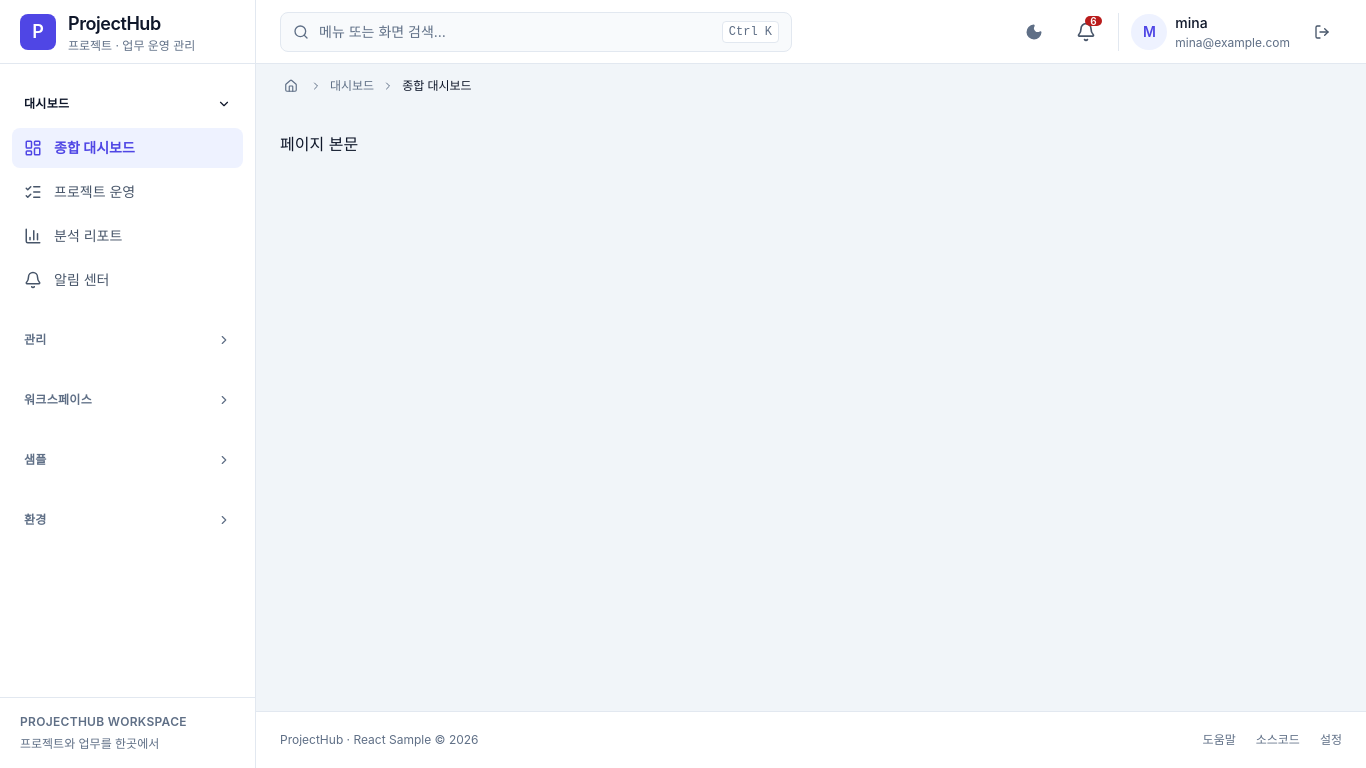
Test: authenticated application shell › 검색 빈 결과와 Escape 종료, 검색창 포커스 복원을 제공한다
This screenshot has width=1366, height=768.
Step 1. Click the button with aria-label "메뉴 및 화면 검색 열기" → click(382, 31), box left=280, top=12, right=792, bottom=52
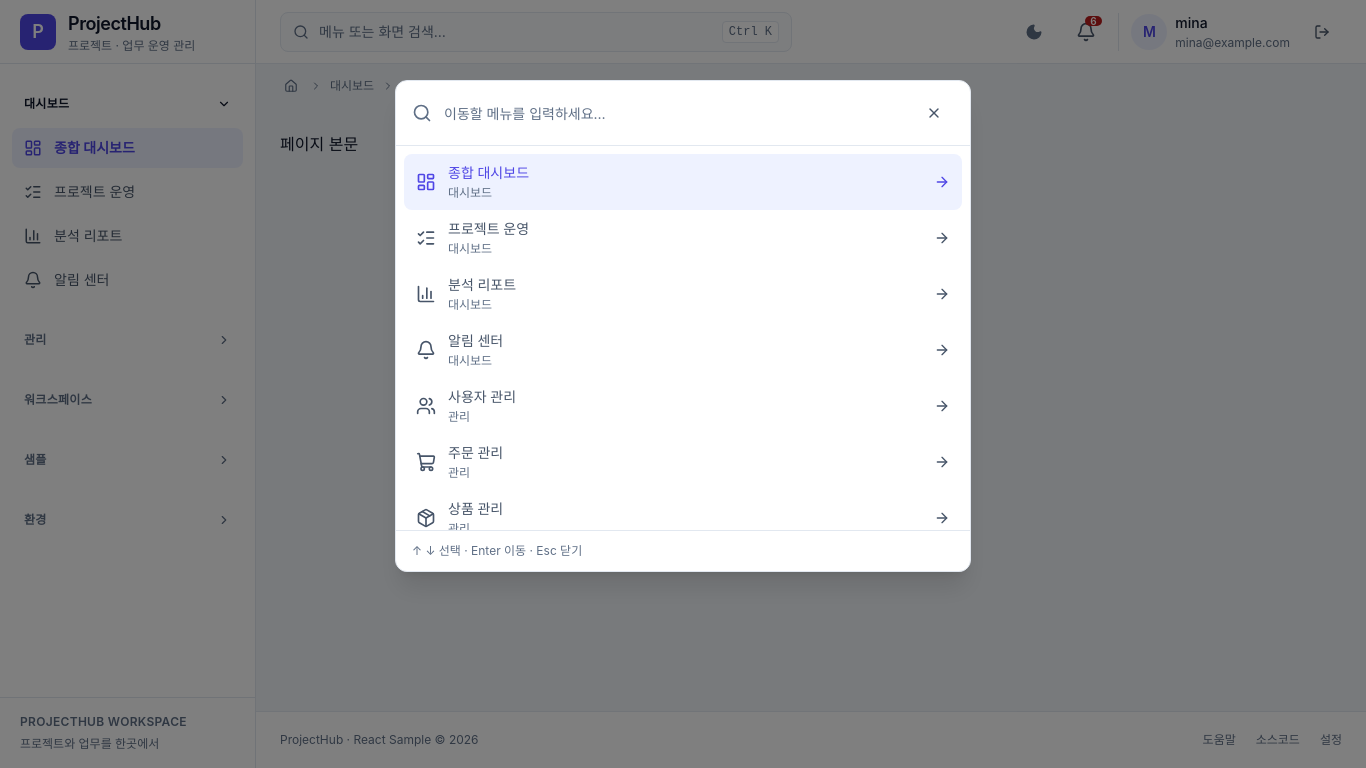
Step 2. Type "없는메뉴" into the dropdown → (673, 113), box left=444, top=93, right=902, bottom=133
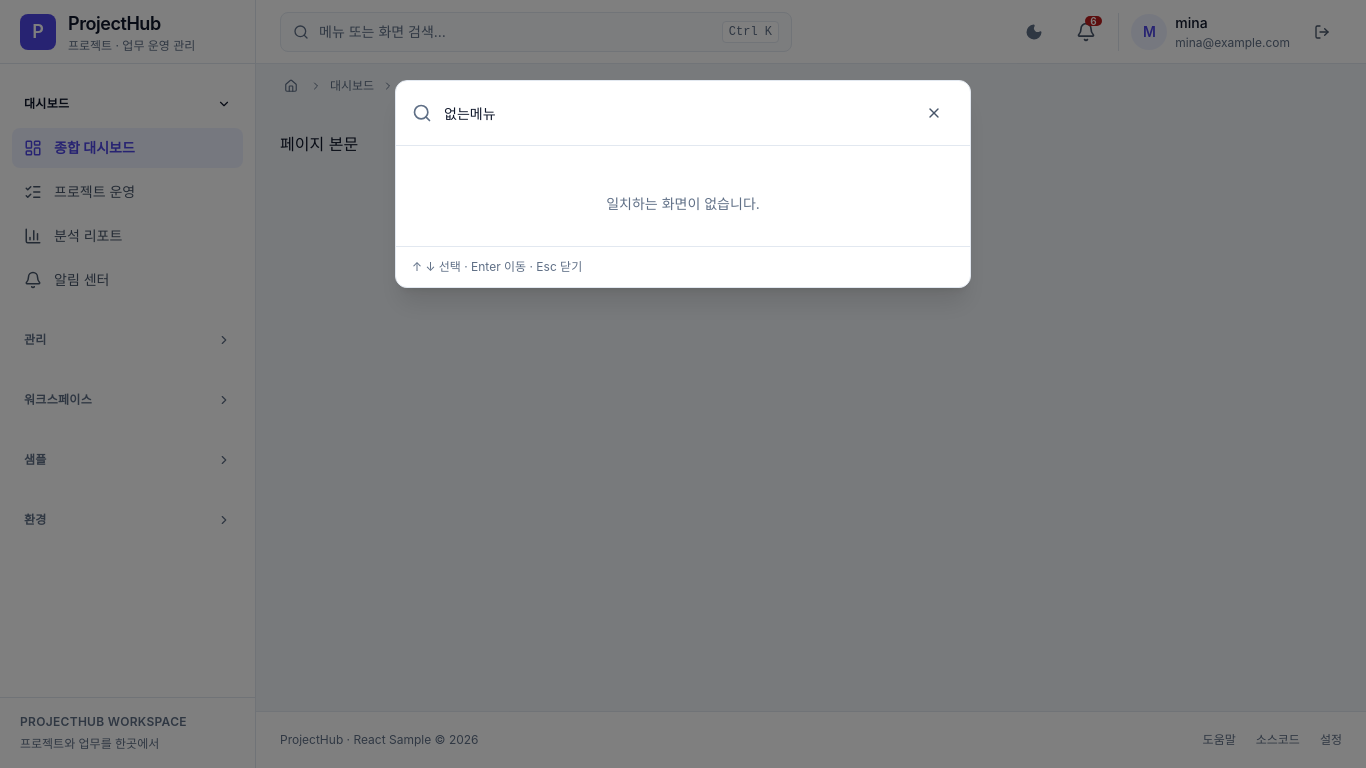
Check: the message reads "일치하는 화면이 없습니다.", box left=606, top=195, right=760, bottom=212
Step 3. Press Arrowup Enter Escape
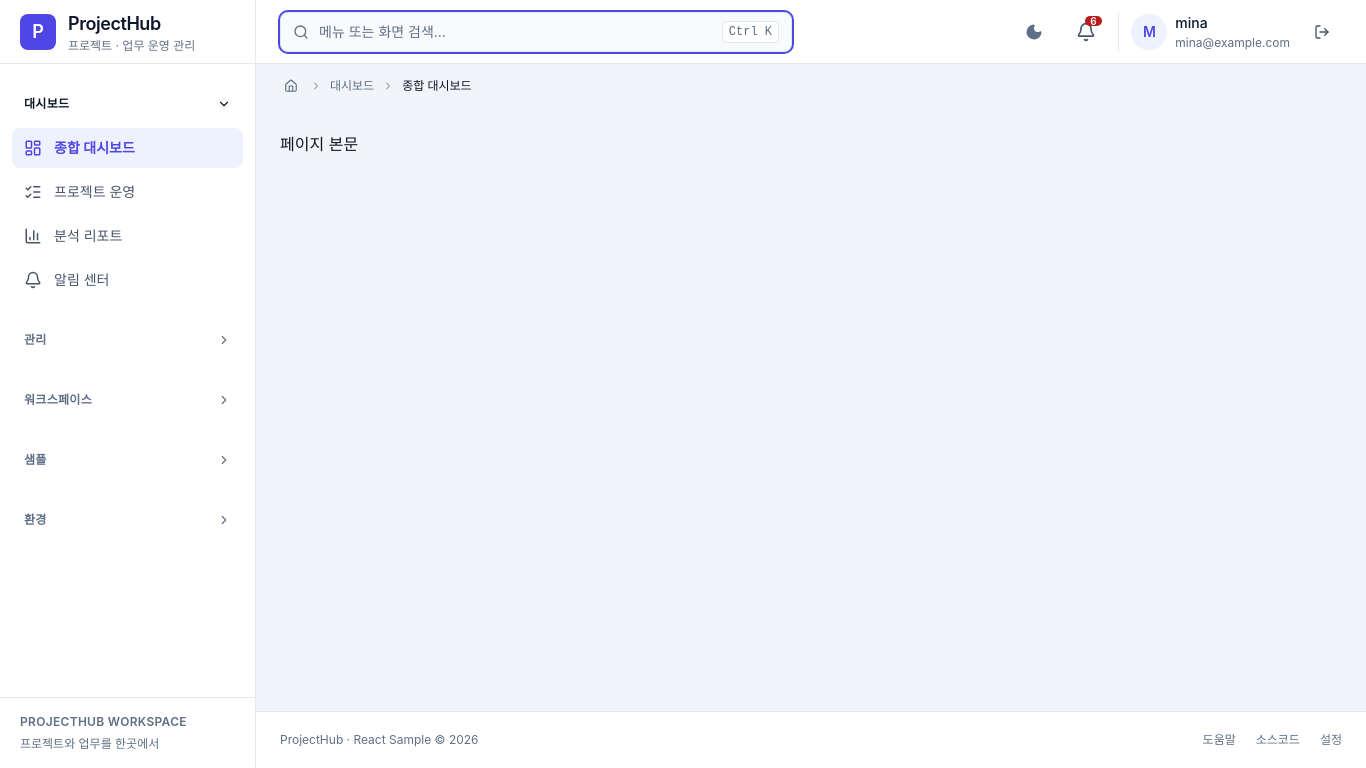
Check: the dialog is gone
